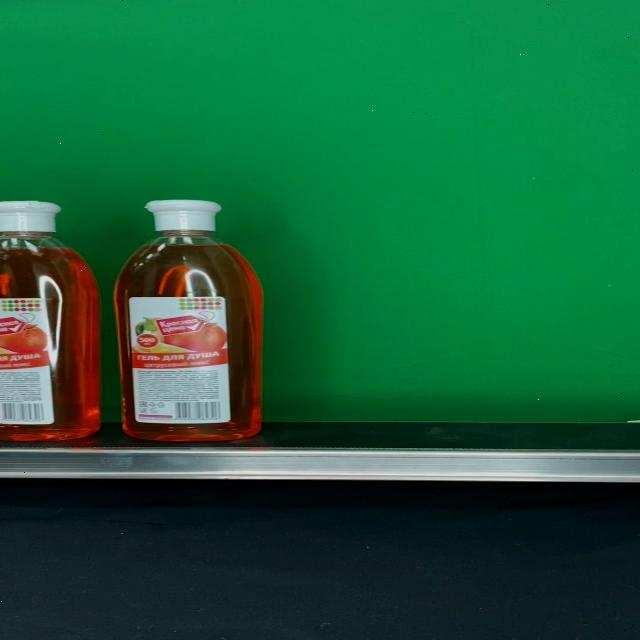Bottle: (114, 199, 263, 441)
Cap: (144, 200, 222, 232)
